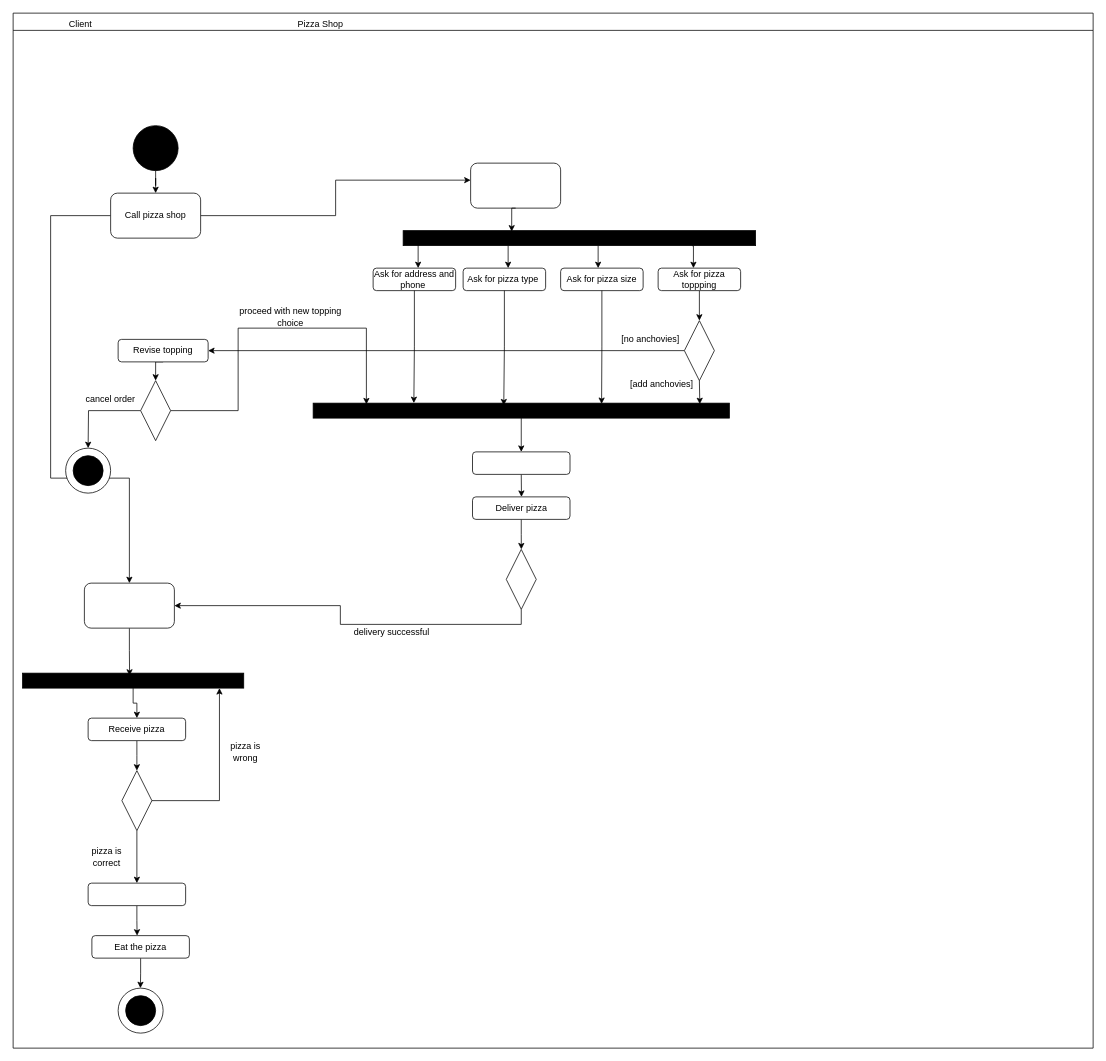
The diagram is 1106 pixels wide and 1061 high, and some of its shapes have lost their labels. The centre of each missing label's shape, as x and y in pixels:
Pay for pizza: (x=136, y=894)
Prepare pizza: (x=521, y=462)
Receive the call: (x=515, y=185)
Wait for pizza: (x=129, y=605)
